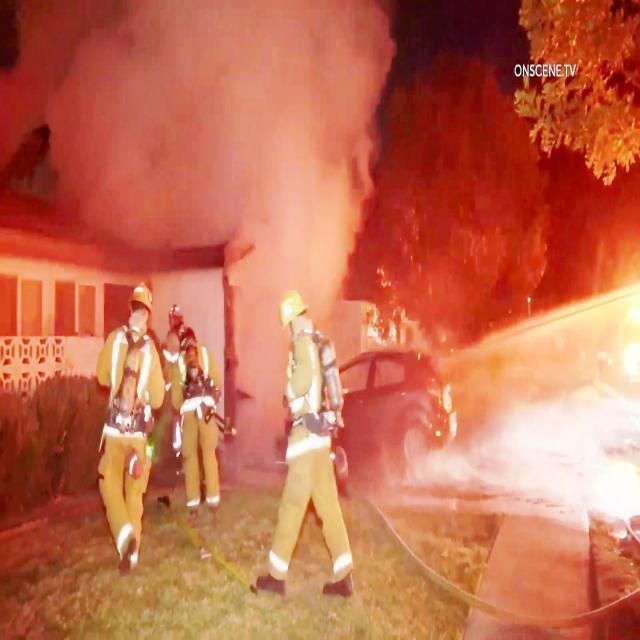Smoke: (2, 2, 506, 235), (222, 236, 279, 467)
